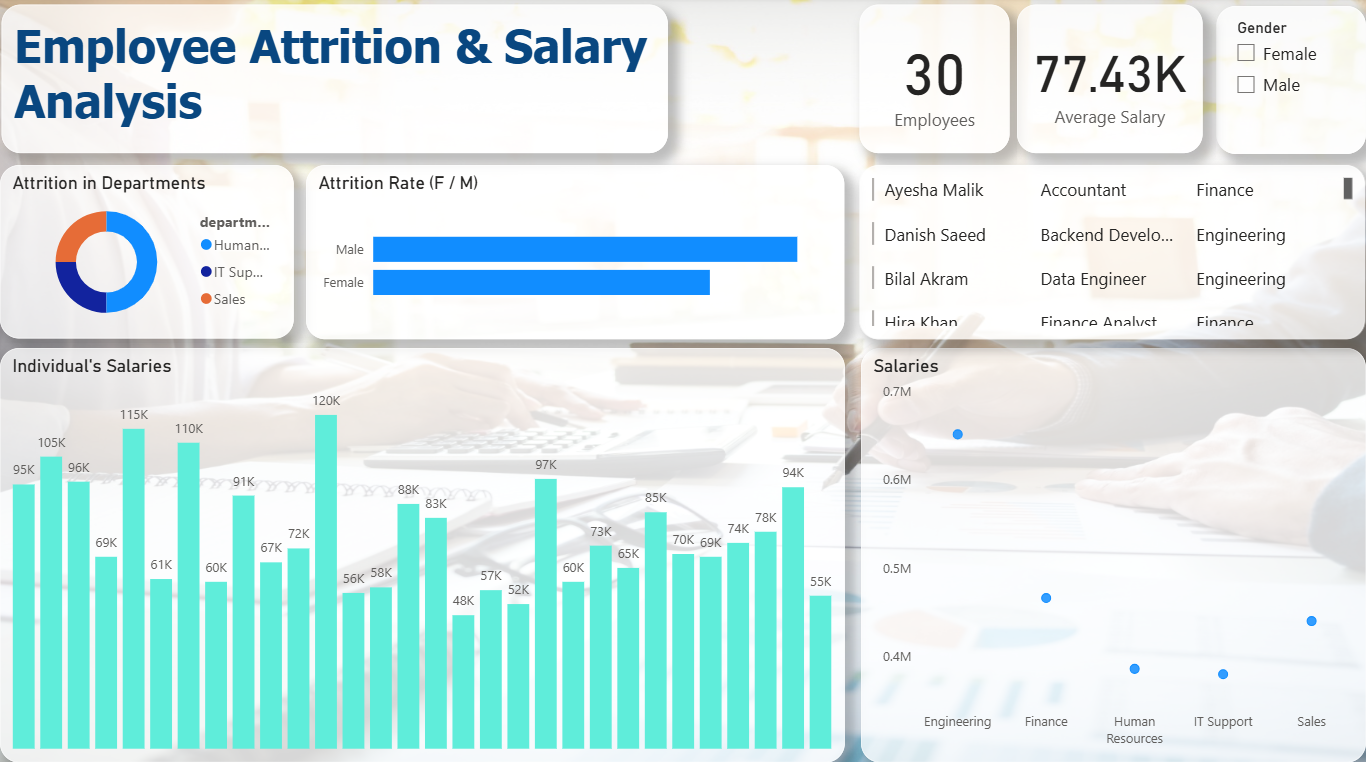

The page's visual inventory and layout, read from the dashboard file:
{"tool":"powerbi","page":{"name":"Page 1","canvas":[1280,720],"ordinal":0},"visuals":[{"type":"slicer","fields":{"Values":["public employees.gender"]},"box":[1140.5,8,140.2,138.6],"z":0},{"type":"textbox","box":[1.4,7,624.4,139.2],"z":1000},{"type":"donutChart","title":"Attrition in Departments","fields":{"Category":["public departments.department_name"],"Y":["CountNonNull(public attrition.attrition_date)"]},"box":[0,157.7,275.6,162.5],"z":2000},{"type":"clusteredBarChart","title":"Attrition Rate (F / M)","fields":{"Category":["public employees.Gender"],"Y":["Sum(public salaries.salary_amount)"]},"box":[286.9,157.5,504.8,163.1],"z":3000},{"type":"columnChart","title":"Individual''s Salaries","fields":{"Category":["public departments.department_name","public employees.full_name"],"Y":["Sum(public salaries.salary_amount)"]},"box":[0,329.7,791.7,388.7],"z":4000},{"type":"card","title":"Salaries","fields":{"Values":["CountNonNull(public employees.employee_id)"]},"box":[805.6,7.6,140.8,139.3],"z":5000},{"type":"card","title":"Salaries","fields":{"Values":["Avg(public salaries.salary_amount)"]},"box":[953.9,7.6,174.1,139.3],"z":6000},{"type":"scatterChart","title":"Salaries","fields":{"X":["public departments.department_name"],"Y":["Sum(public salaries.salary_amount)"]},"box":[807.6,329.7,473.1,388.7],"z":7000},{"type":"multiRowCard","title":"Salaries","fields":{"Values":["public employees.full_name","public employees.job_role","public departments.department_name"]},"box":[805.8,157.5,473.9,163.1],"z":8000}]}

Visuals, with their boxes in screenshot pixels (x1, y1, x2, y2), scaled from the page's 1280x720 canvas onto the 1366x762 screenshot:
slicer - public employees.gender: BBox(1217, 8, 1365, 155)
textbox: BBox(1, 7, 668, 155)
"Attrition in Departments" donutChart: BBox(0, 167, 294, 339)
"Attrition Rate (F / M)" clusteredBarChart: BBox(306, 167, 845, 339)
"Individual''s Salaries" columnChart: BBox(0, 349, 845, 760)
"Salaries" card: BBox(860, 8, 1010, 155)
"Salaries" card: BBox(1018, 8, 1204, 155)
"Salaries" scatterChart: BBox(862, 349, 1365, 760)
"Salaries" multiRowCard: BBox(860, 167, 1365, 339)
